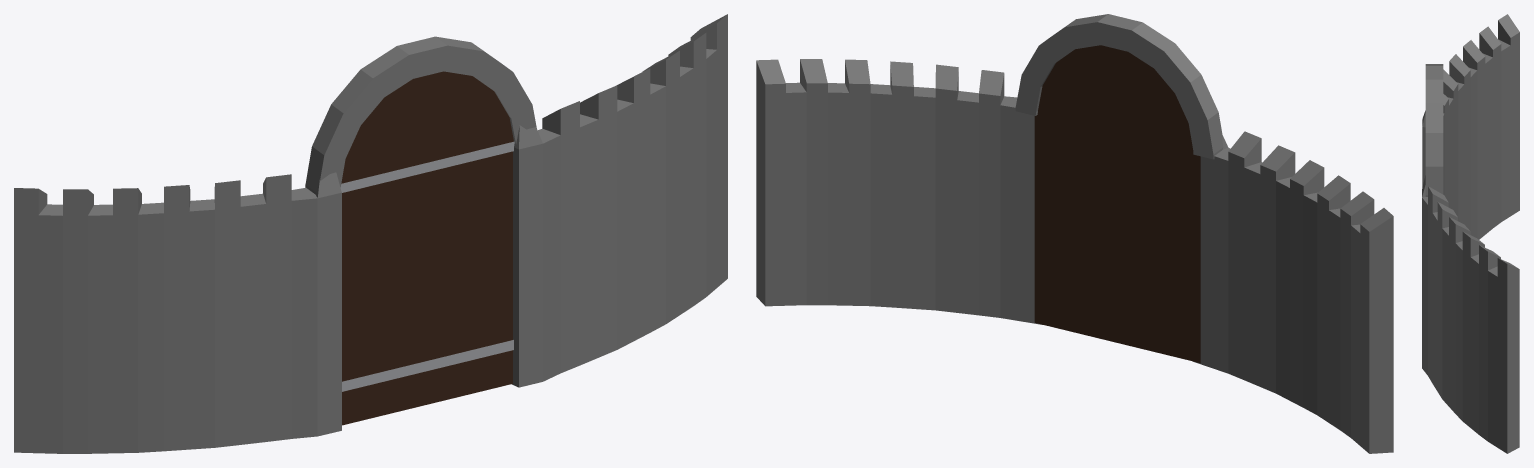
The model's file is Portao_Vila_do_Jogador.fbx.
3 renders of one model, left to right at view 1: azimuth 30°, elevation 25°; view 2: azimuth 150°, elevation 25°; view 3: azimuth 270°, elevation 25°, orthographic. The views are drawn at different scales.
Visible parts, largest first — view 1: Cube.028, Cube.023, Cube.030, Cube.029; view 2: Cube.023, Cube.028, Cube.030, Cube.029; view 3: Cube.023, Cube.028, Cube.029.
Boxes of the visible parts, box(x1,y1,x2,y2) form: Cube.028: box(14, 172, 341, 453); Cube.023: box(512, 14, 727, 387); Cube.030: box(340, 71, 514, 425); Cube.029: box(305, 36, 536, 194); Cube.023: box(756, 59, 1042, 324); Cube.028: box(1193, 131, 1393, 453); Cube.030: box(1034, 45, 1200, 363); Cube.029: box(1015, 14, 1223, 159); Cube.023: box(1422, 175, 1519, 453); Cube.028: box(1422, 14, 1519, 239); Cube.029: box(1425, 64, 1443, 196).
Size of the model in its own units: 2425 by 402 by 1160.
